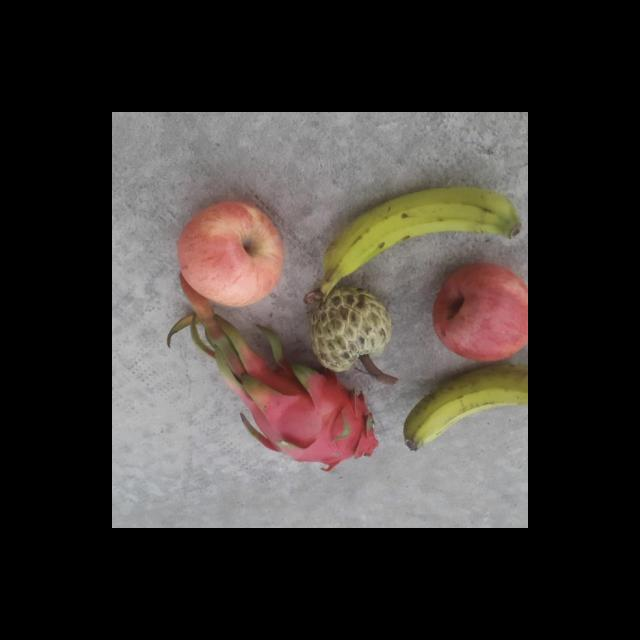Sakya fruit: (306, 286, 401, 374)
apple: (176, 198, 287, 307), (430, 262, 528, 364)
banana: (310, 175, 524, 302), (402, 362, 528, 452)
pitaya: (232, 366, 382, 472)
